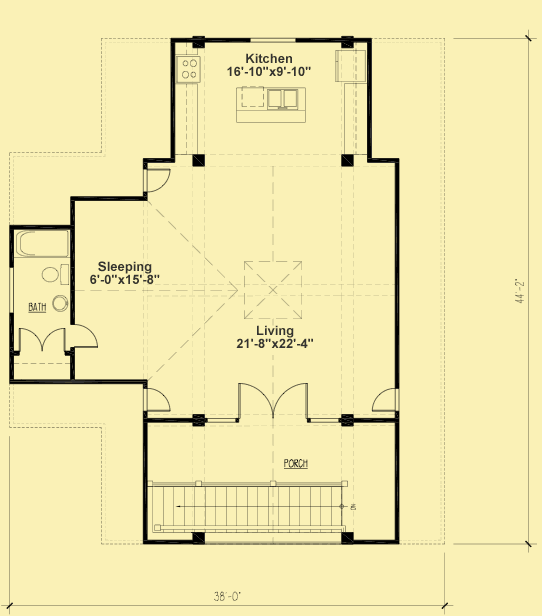door: (239, 384, 310, 424), (16, 326, 68, 356), (68, 322, 100, 351), (142, 164, 174, 193), (369, 385, 401, 414), (144, 386, 172, 413)
large_sink: (40, 263, 71, 286)
stairs: (143, 481, 348, 534)
tub: (14, 227, 70, 257)
